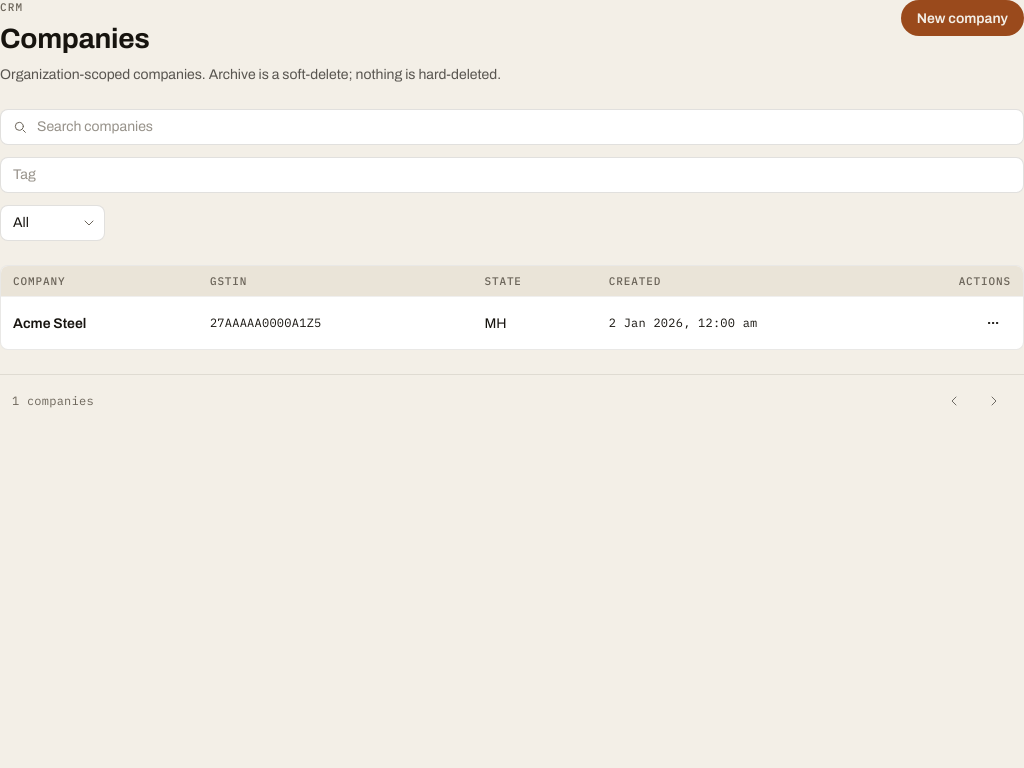
Scenario: Companies page › surfaces backend validation errors on create
The width and height of the screenshot is (1024, 768).
Check: the link "Acme Steel" is shown, box [13,316,86,331]
Step 1. Click the button "New company" → (962, 18), box [901,0,1023,36]
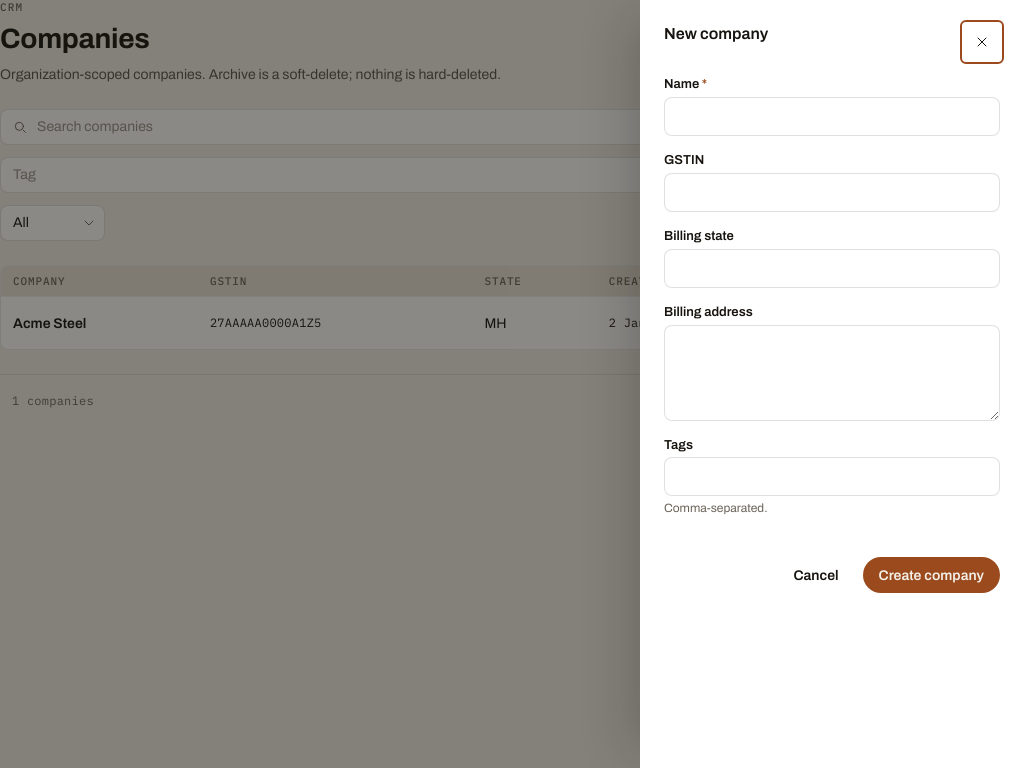
Step 2. Type "Broken Co" into the field labelled "Name *" → (832, 116), box [664,97,1000,136]
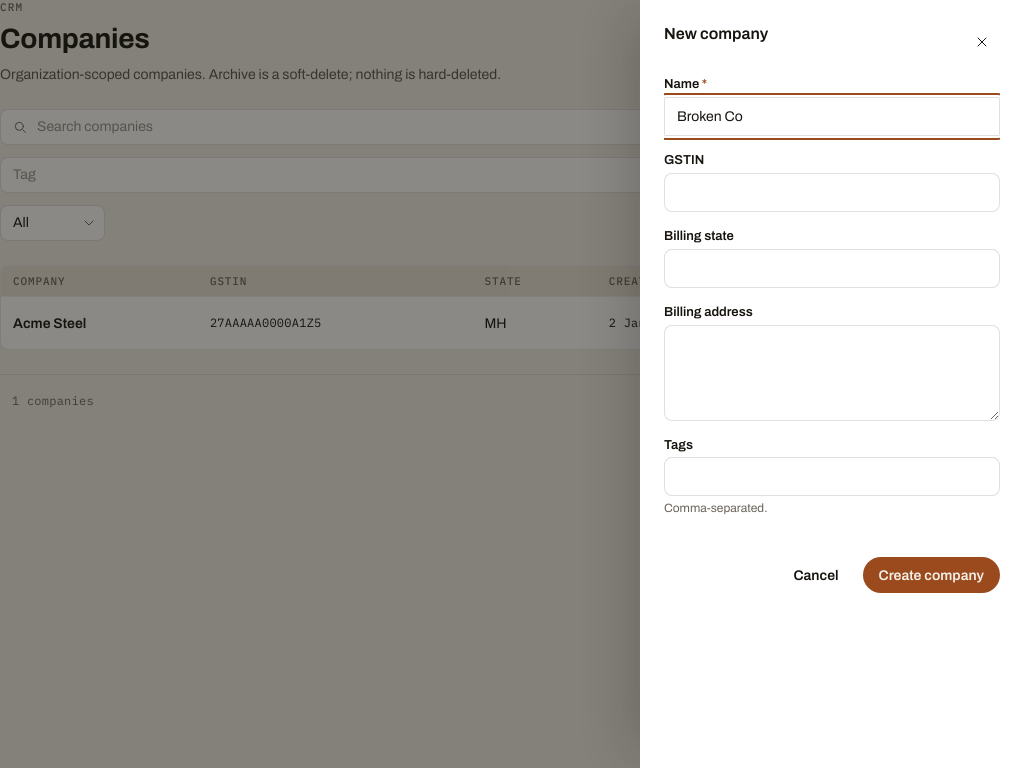
Step 3. Click the button "Create company" → (931, 575), box [862,557,1000,593]
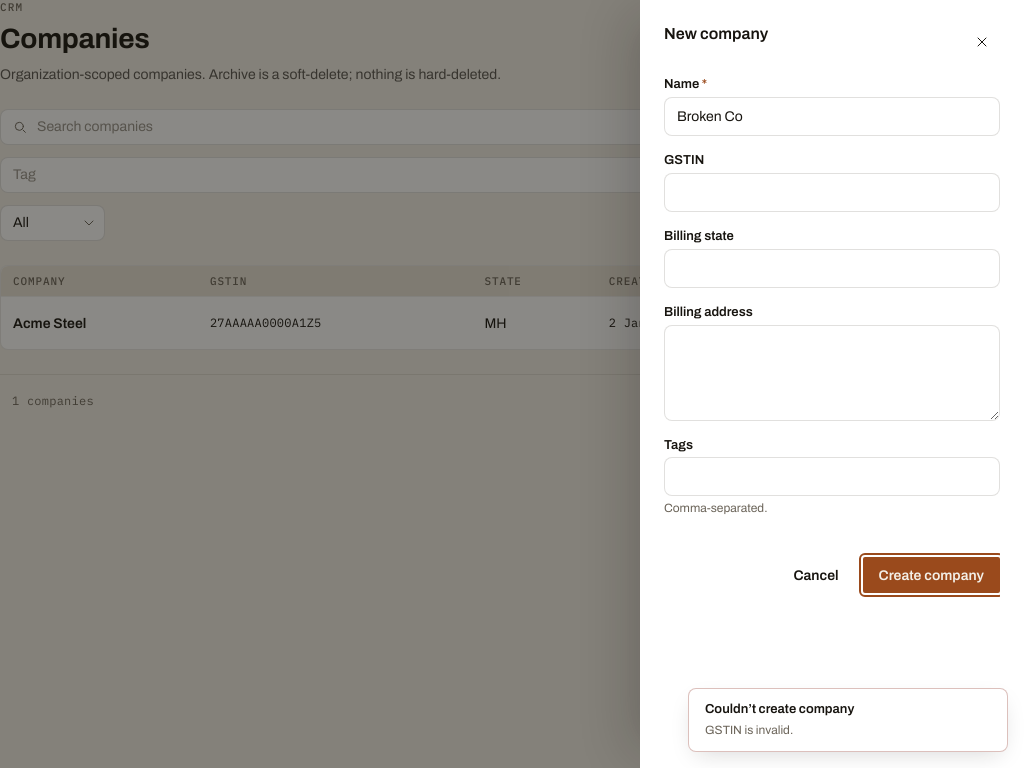
Check: the text "GSTIN is invalid." is shown, box [705,723,793,737]
